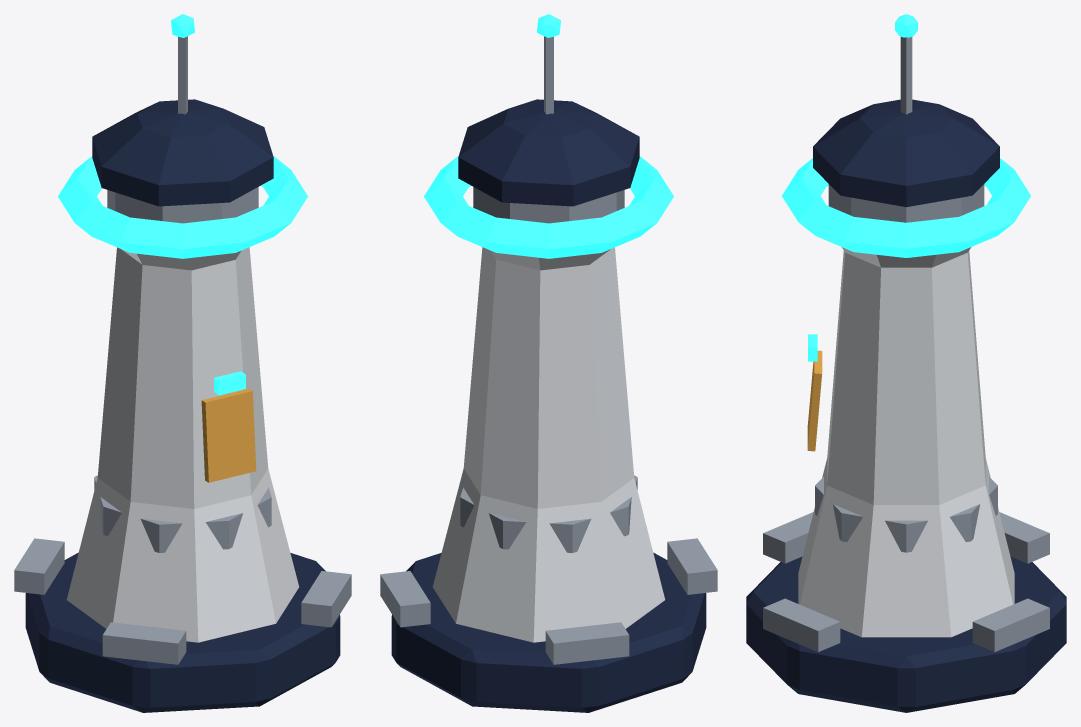
File: beacon_pylon.glb
3 views of the same model, side by side, from view 1: azimuth 30°, elevation 25°; view 2: azimuth 150°, elevation 25°; view 3: azimuth 270°, elevation 25° (orthographic).
Visible parts, largest first — view 1: beacon_pylon; view 2: beacon_pylon; view 3: beacon_pylon.
Part boxes in pixels (left/top/right/bottom): beacon_pylon: left=14, top=14, right=351, bottom=712; beacon_pylon: left=380, top=14, right=717, bottom=712; beacon_pylon: left=746, top=14, right=1066, bottom=712.
Bounding box in the file's own units: 0.8209 × 1.79 × 0.8209.
